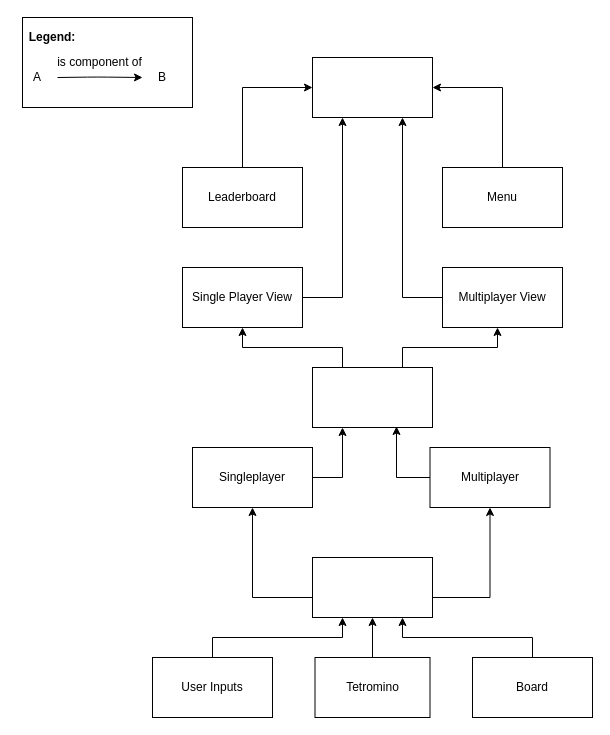
This 610x735 diagram has some shape labels left out. Each missing label, with the centre of its shape:
"Main View" goes at (x=372, y=87).
"Player" goes at (x=372, y=587).
"Server" goes at (x=372, y=397).
